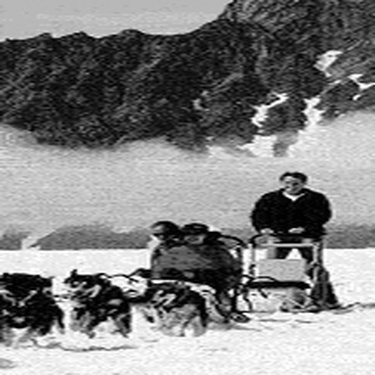dog: (65, 261, 134, 339), (2, 286, 66, 350), (144, 283, 209, 342), (129, 278, 193, 325), (91, 269, 151, 307), (1, 262, 57, 298)
